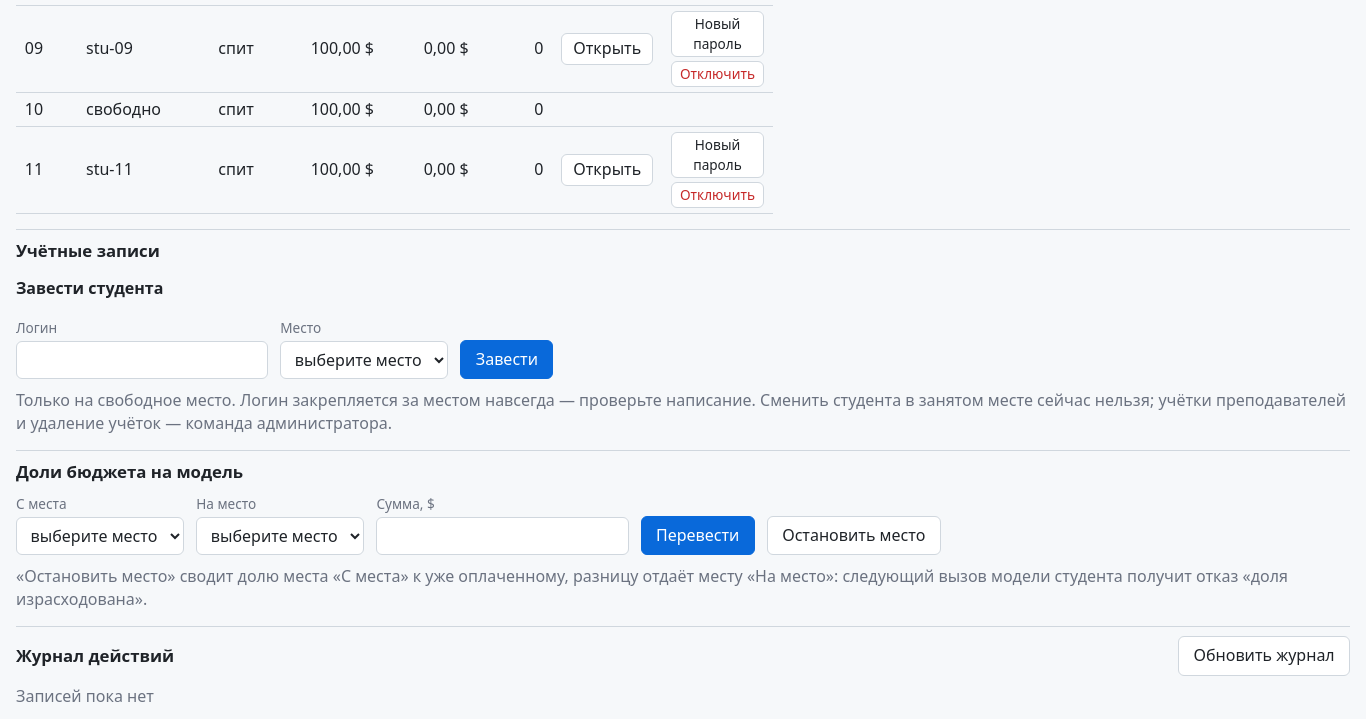
Test case: transfer_sends_exact_body_and_shows_conflict
(page scrolled)
Step 1. Select "03 — stu-03" in the dropdown labelled "С места" → (100, 536), box [16,517,184,555]
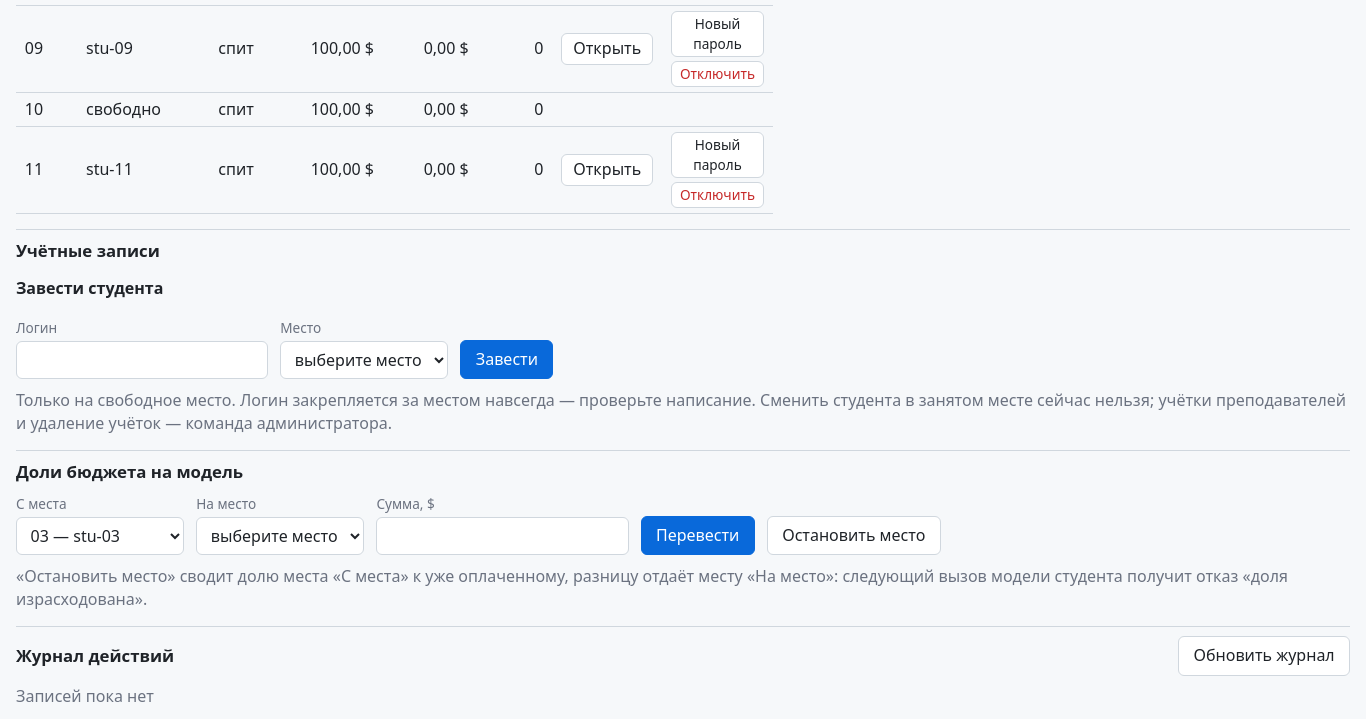
Step 2. Select "05 — stu-05" in the dropdown labelled "На место" → (280, 536), box [196,517,364,555]
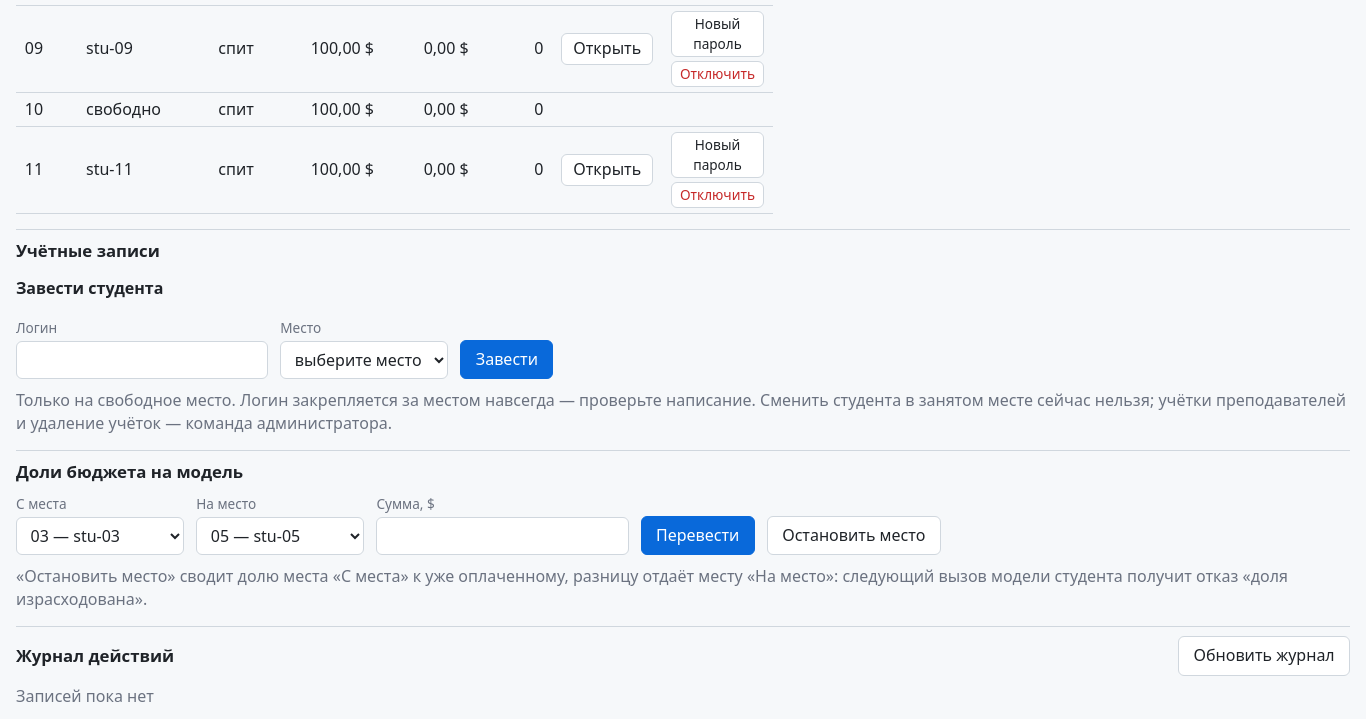
Step 3. Type "20" into the field labelled "Сумма, $" → (502, 536), box [376,517,629,555]
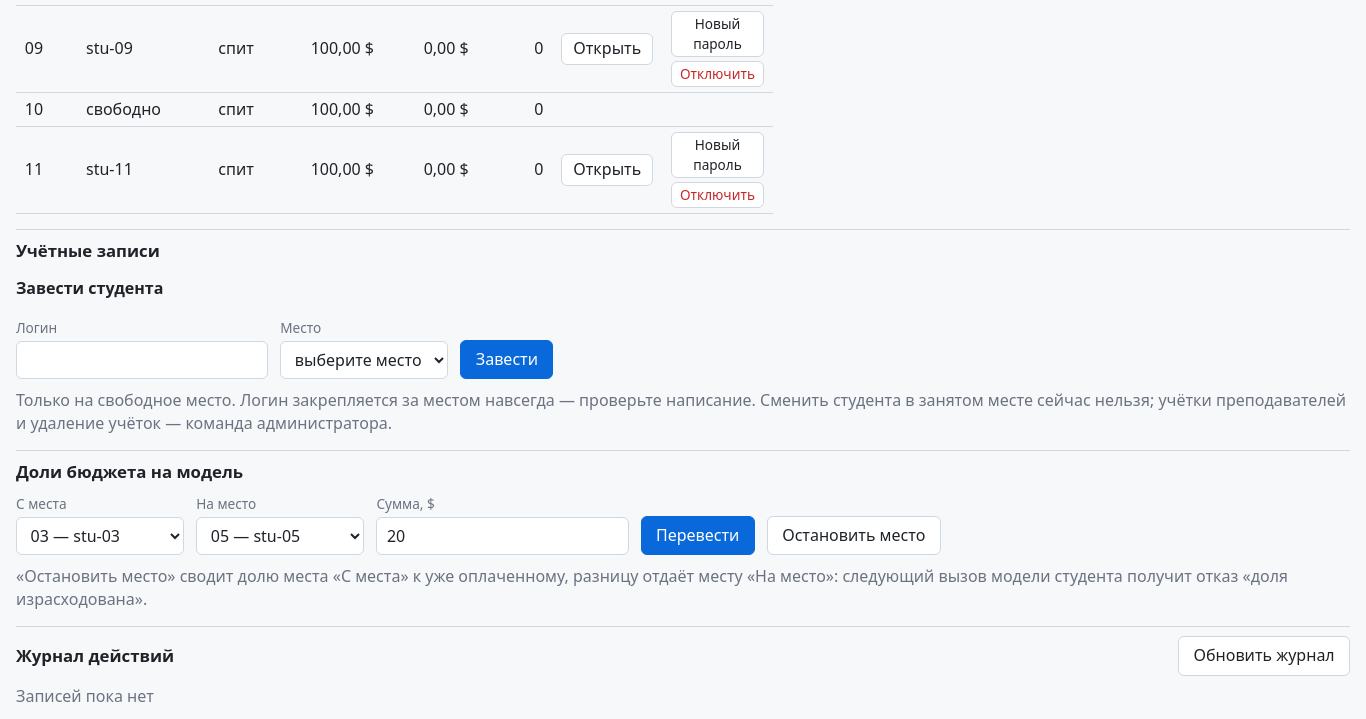
Step 4. Click the button "Перевести" → (698, 536), box [641,516,755,555]
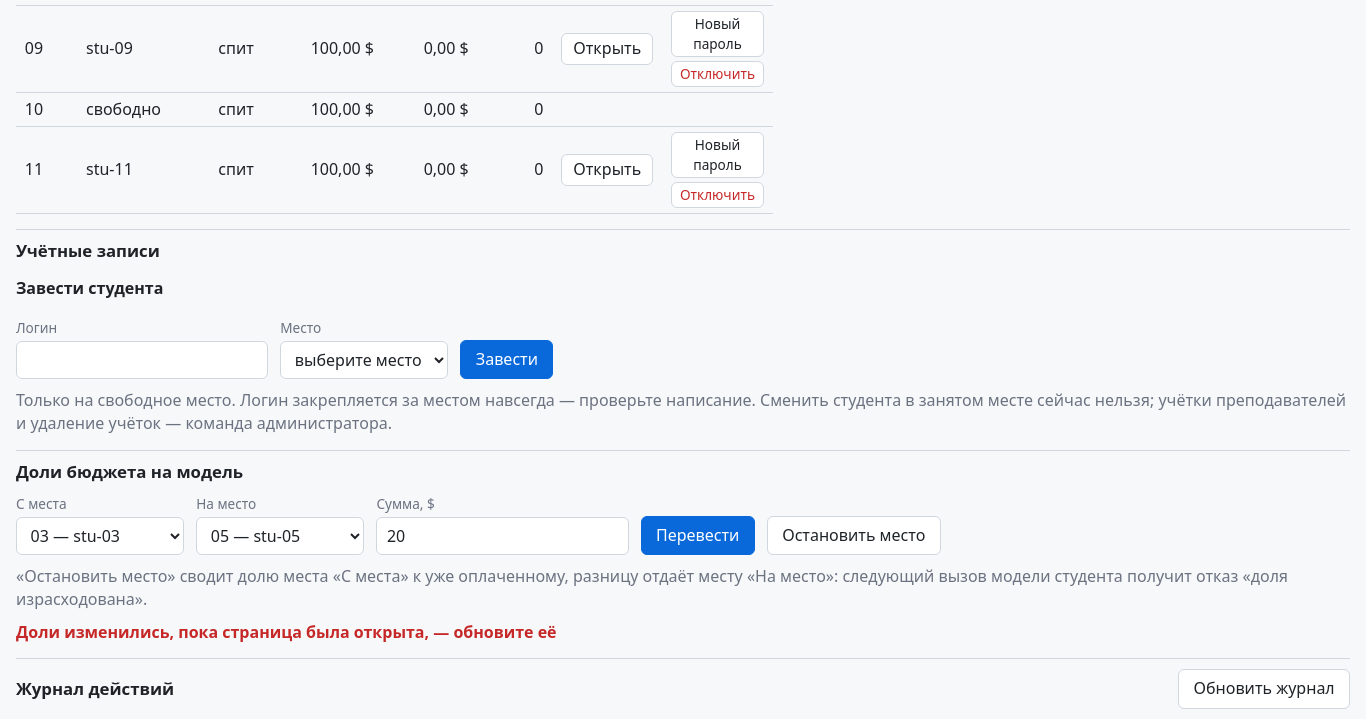
Check: the text "Доли изменились, пока страница была открыта, — обновите её" is shown, box [16,621,556,643]
